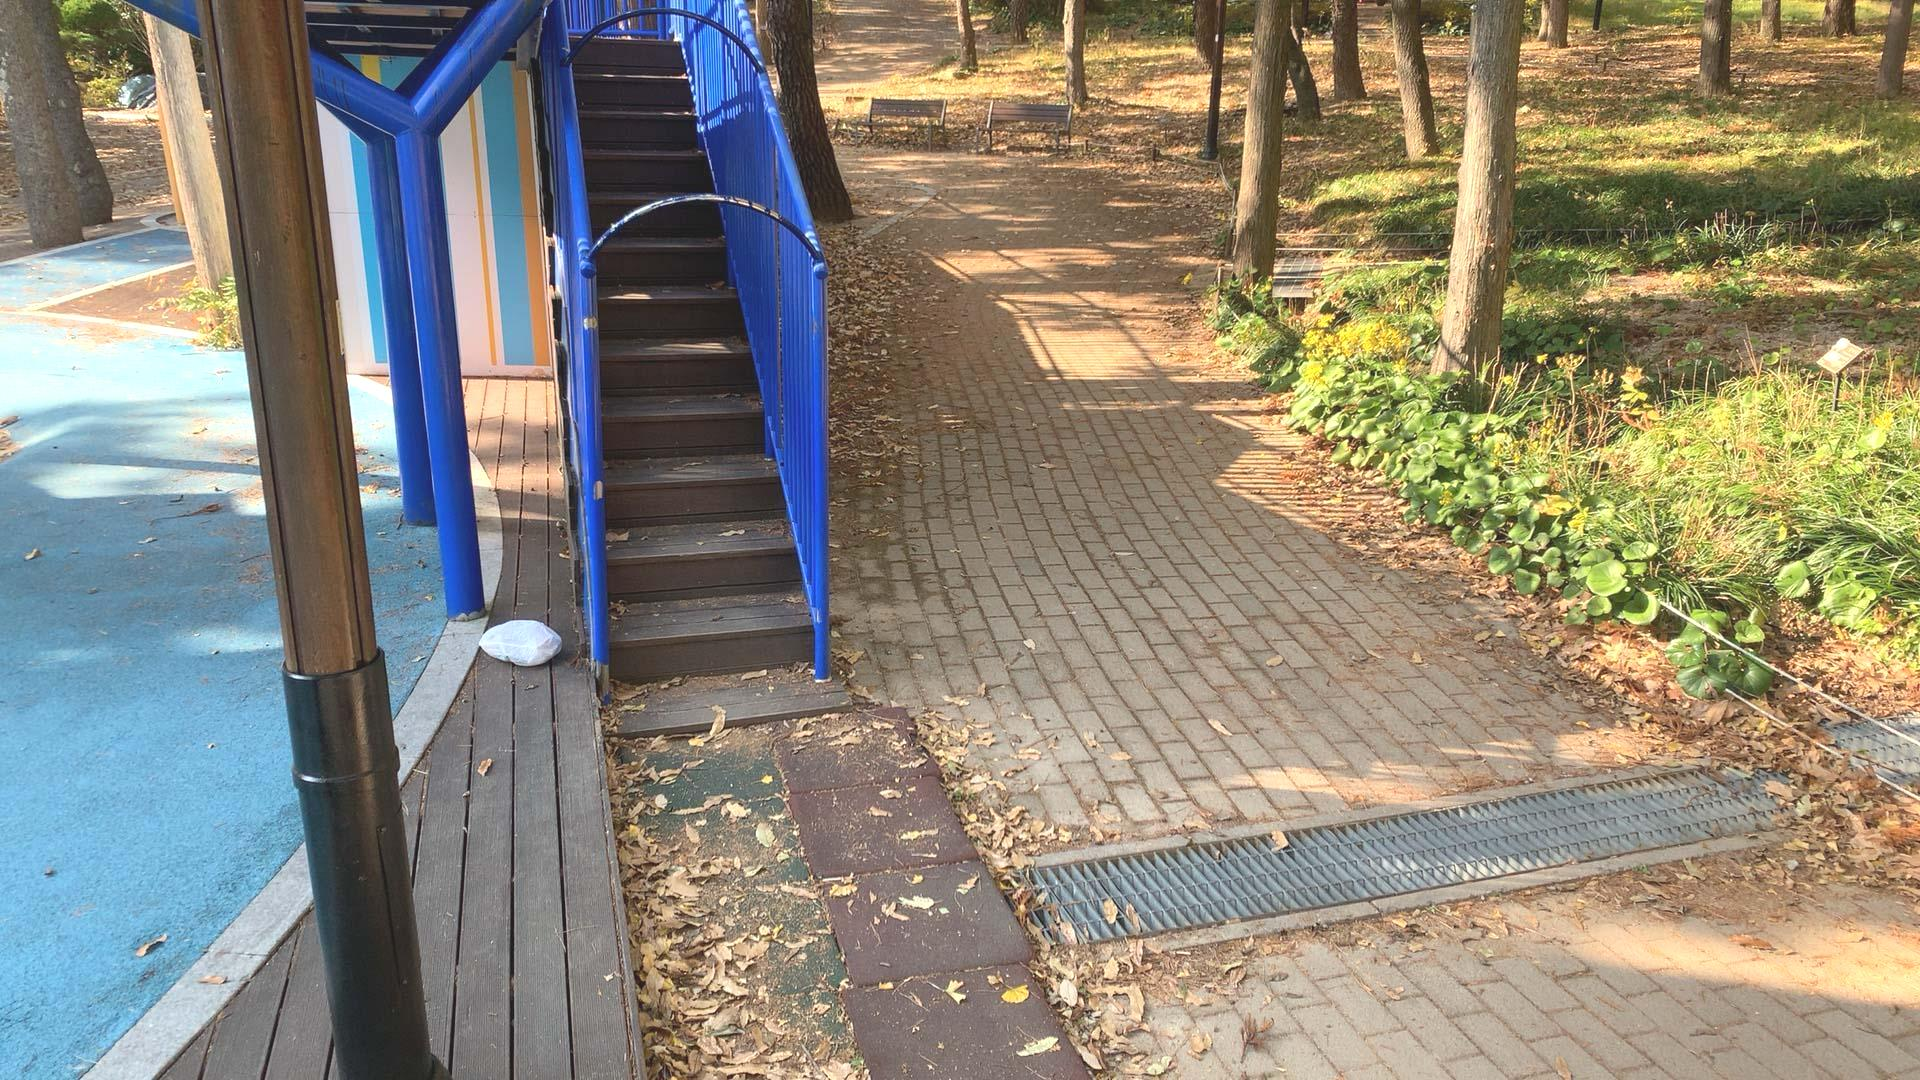white_bag: (471, 616, 564, 671)
